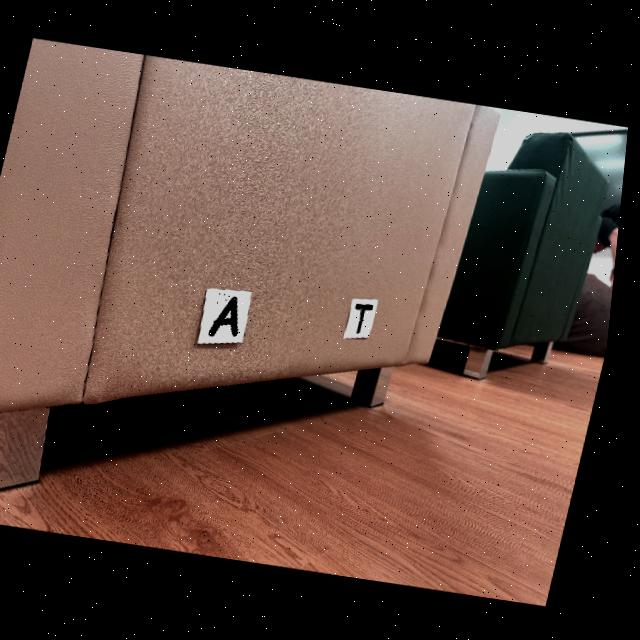A: (215, 296, 245, 336)
T: (361, 303, 380, 333)
